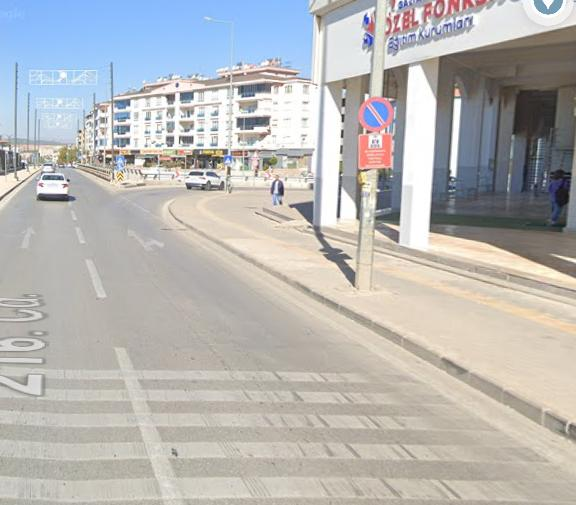nopark: (358, 97, 395, 131)
